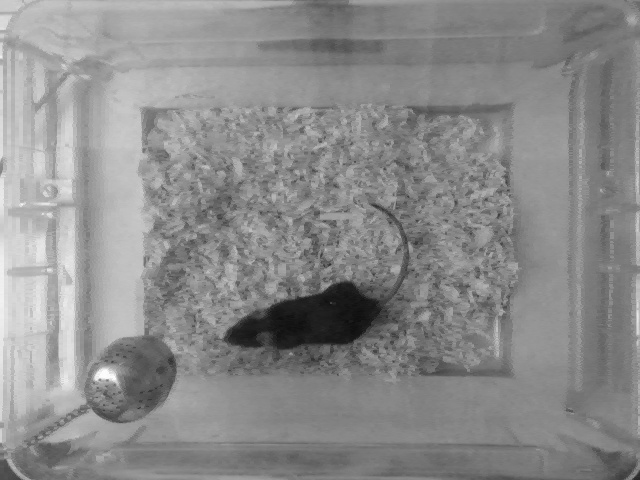mice: (224, 190, 413, 357)
